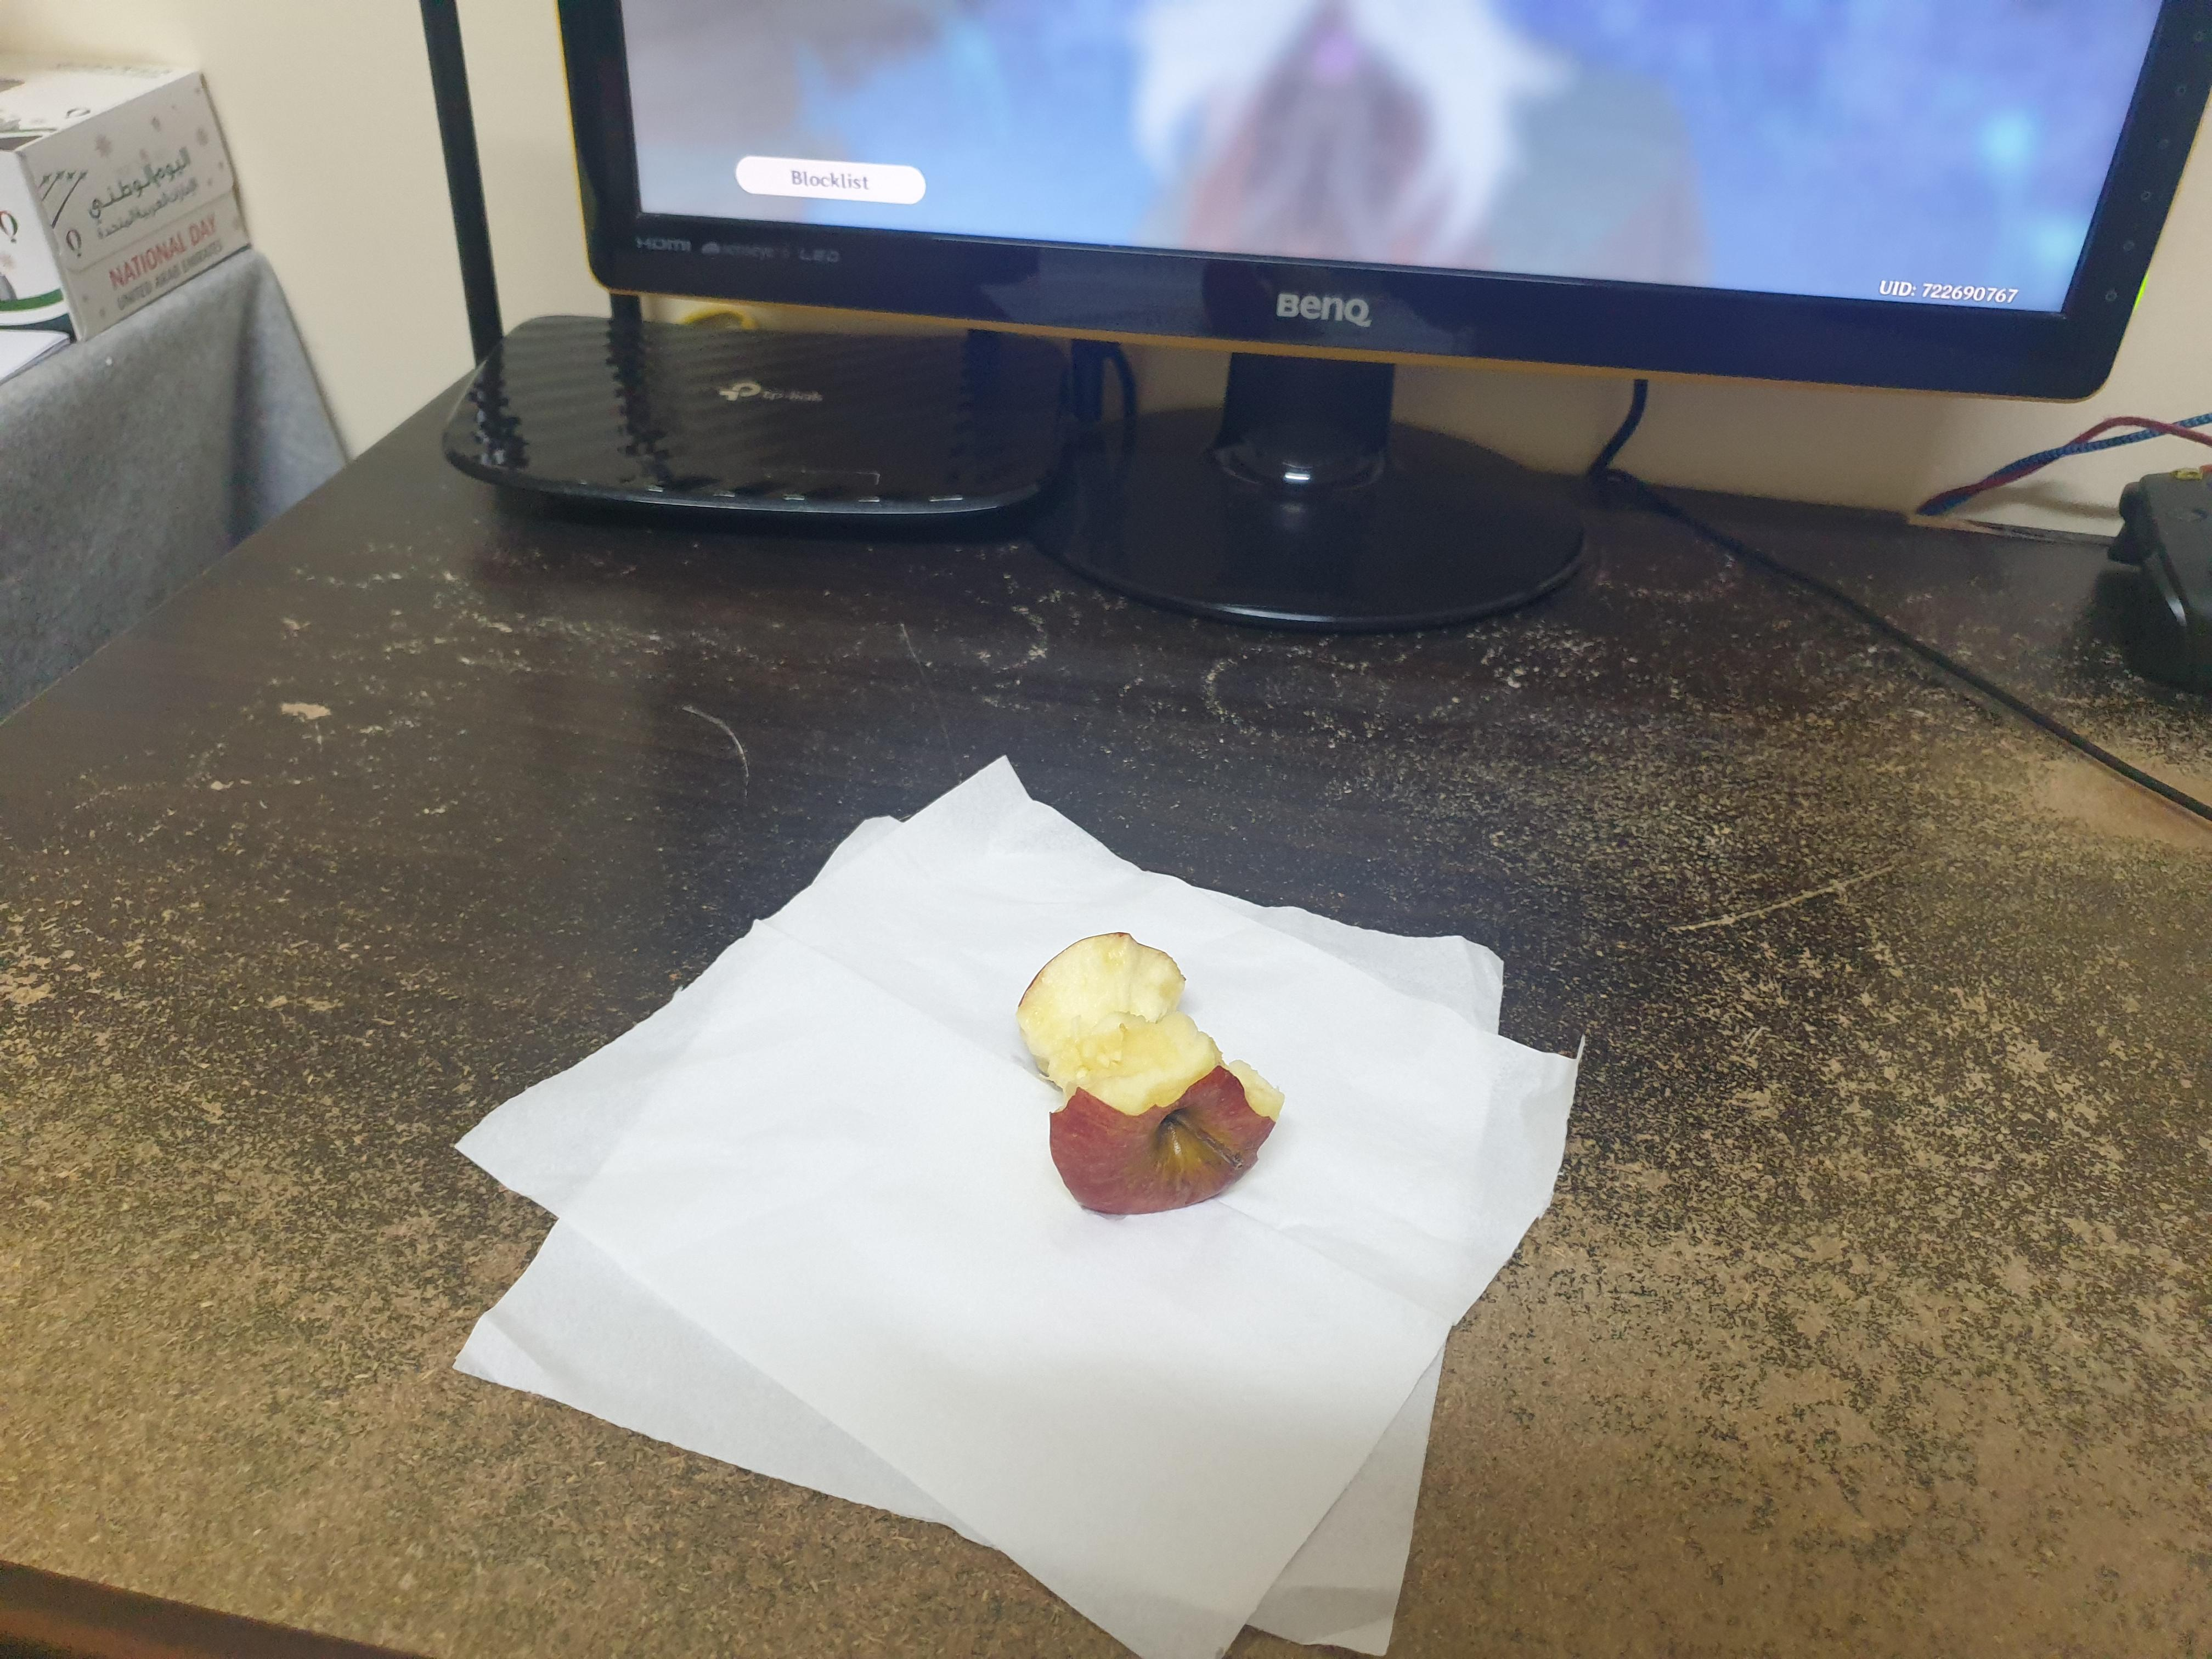Apple: (991, 917, 1315, 1222)
